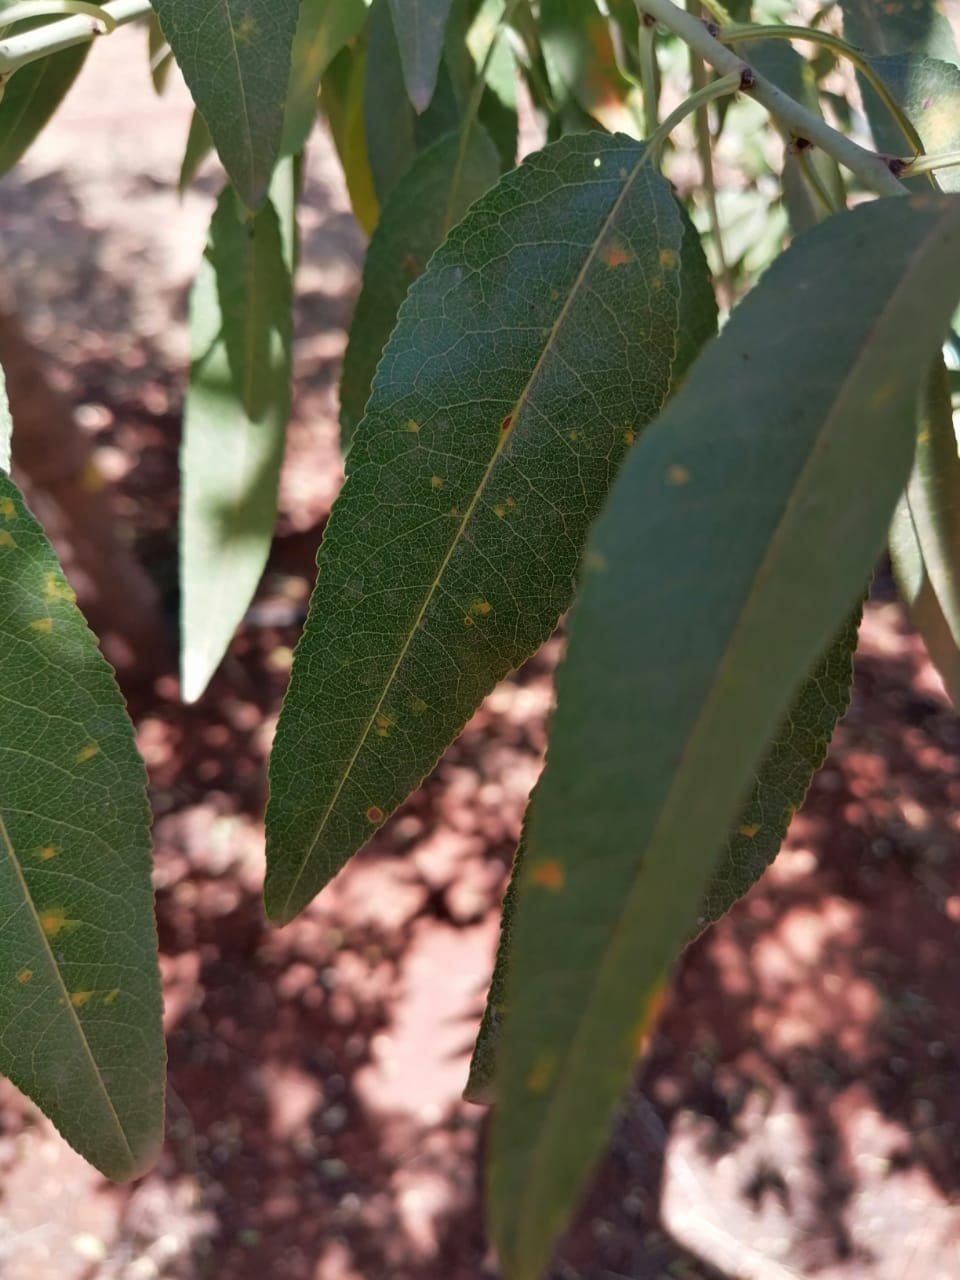polystigma: (491, 191, 956, 1280), (257, 134, 679, 933), (1, 467, 171, 1190)
